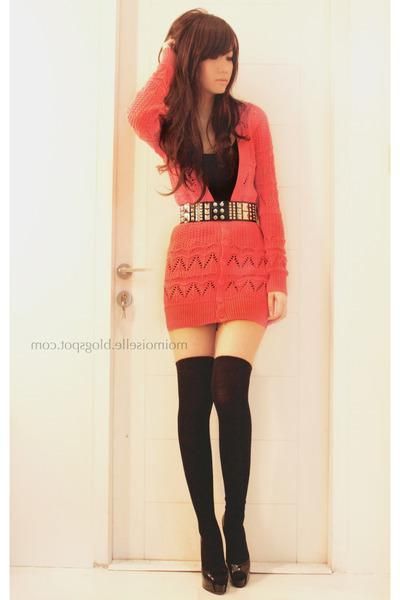dress: (127, 49, 290, 332)
